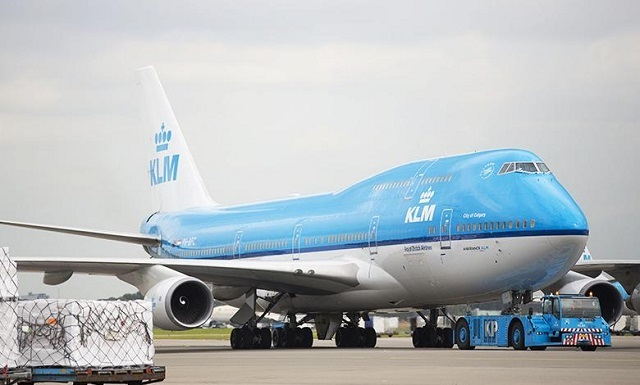aeroplane: (19, 64, 629, 331)
